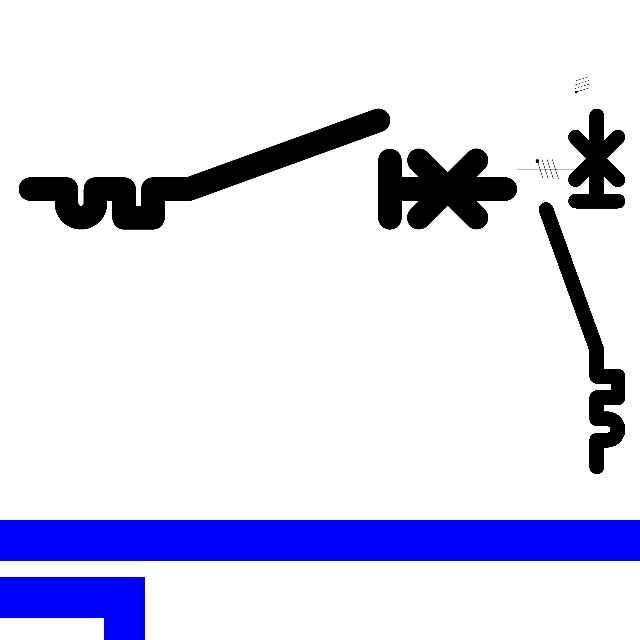interruptor_termomagnetico: (18, 108, 517, 230), (537, 106, 627, 475)
